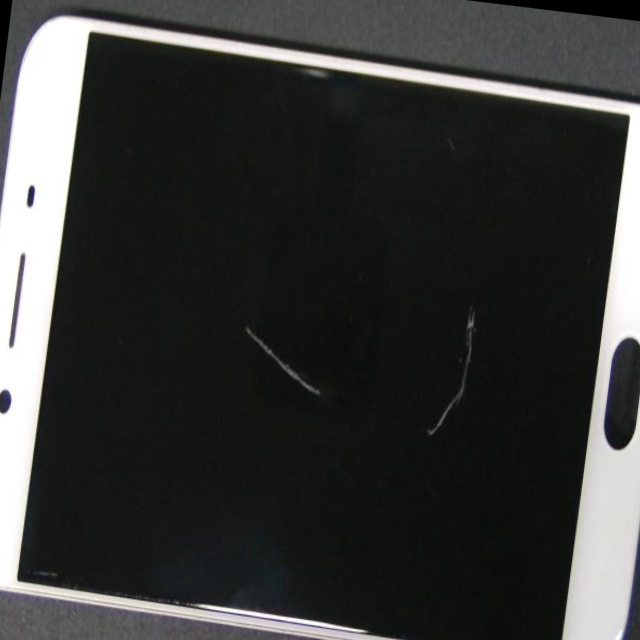scratch: (221, 51, 640, 549), (186, 189, 494, 561)
